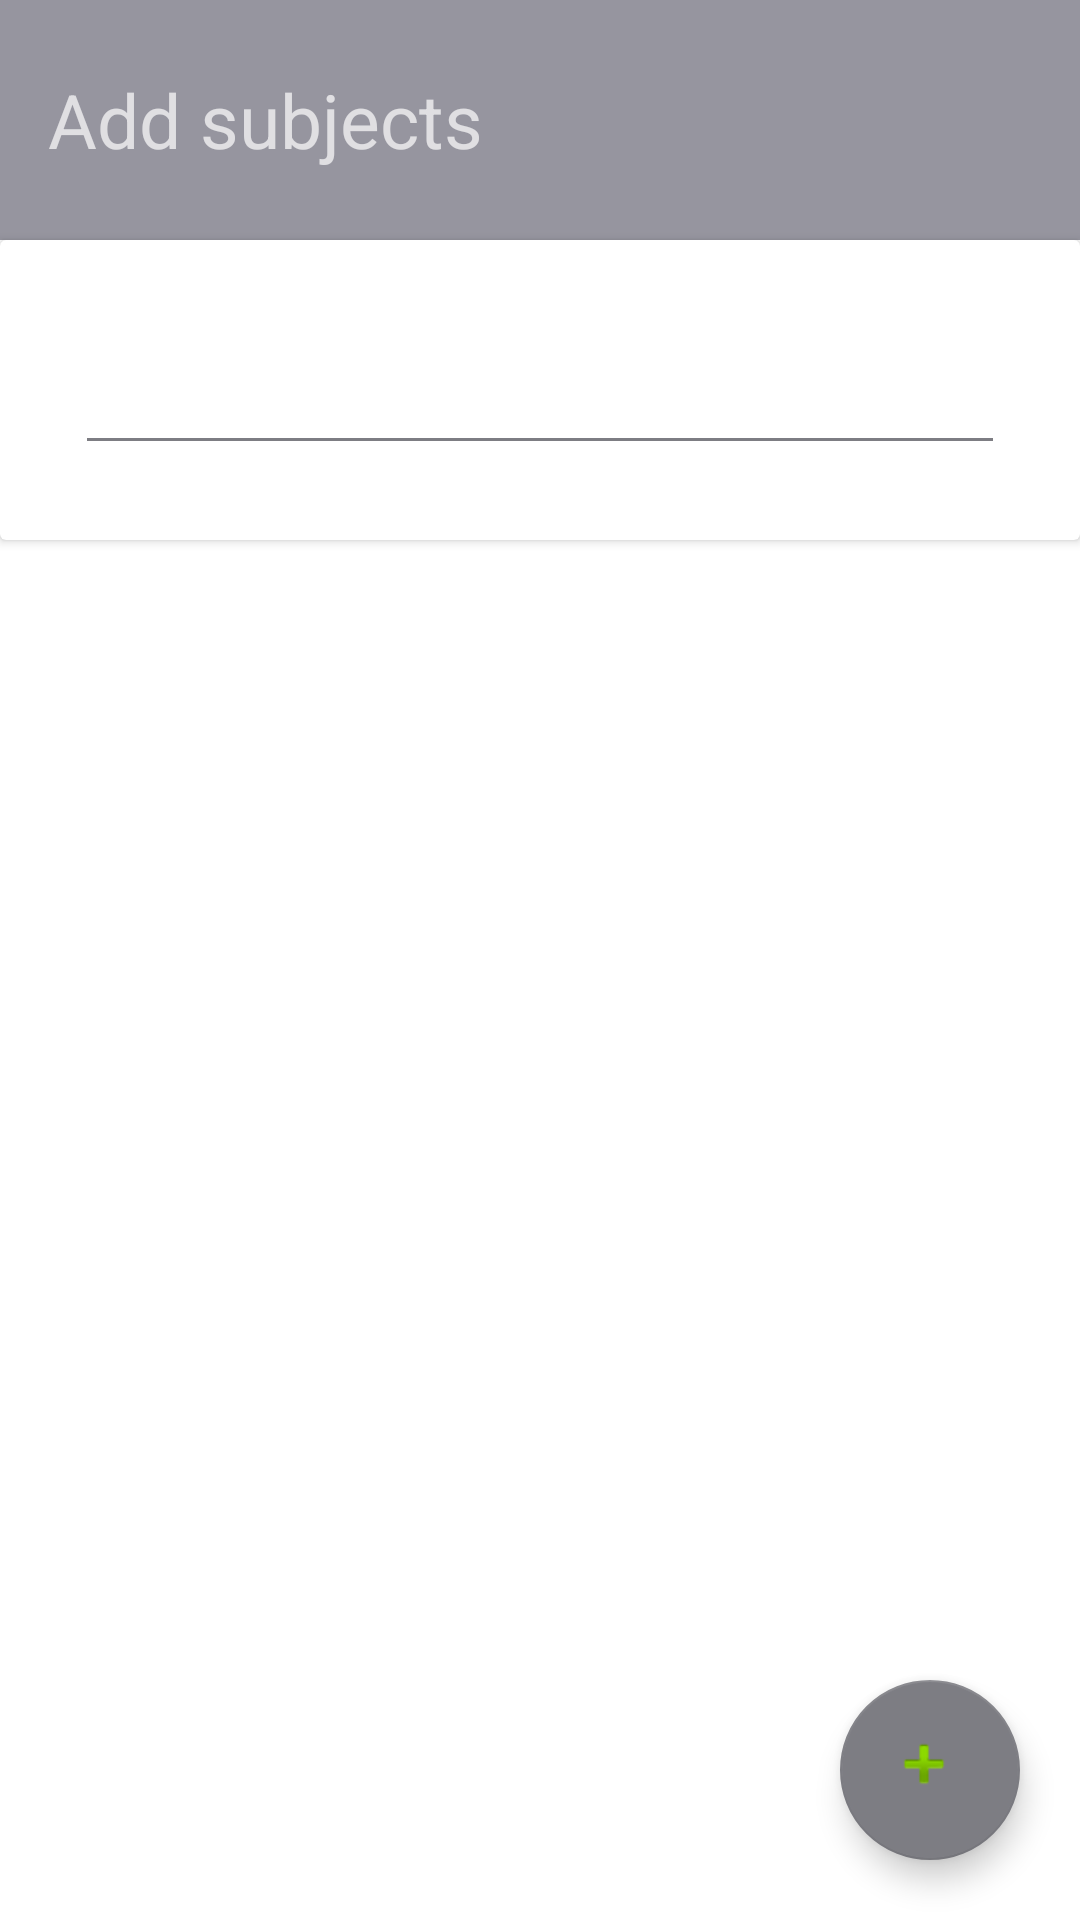

Named icons in this screenshot (1080px x 1920px) and their bounding boxes, bbox(x1, y1, x2, y2):
add: bbox(840, 1680, 1020, 1860)
